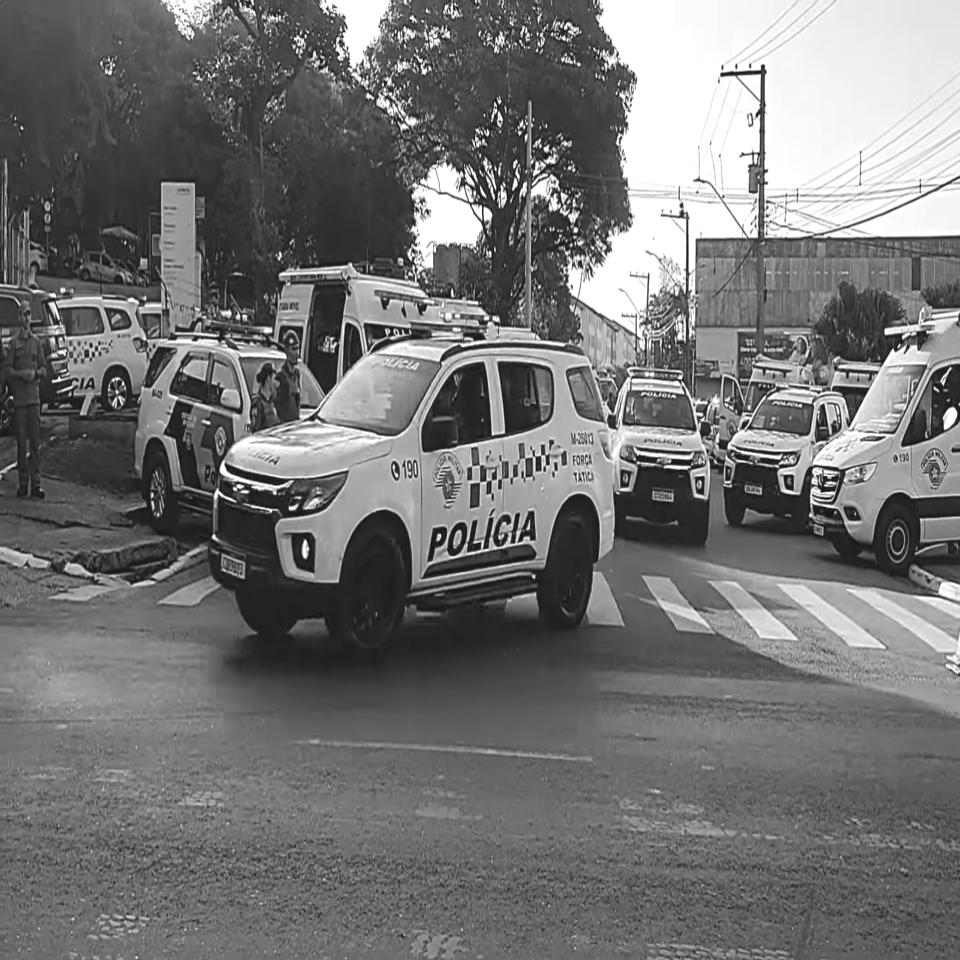viatura: (208, 313, 616, 665), (724, 380, 852, 535), (607, 359, 711, 545)
